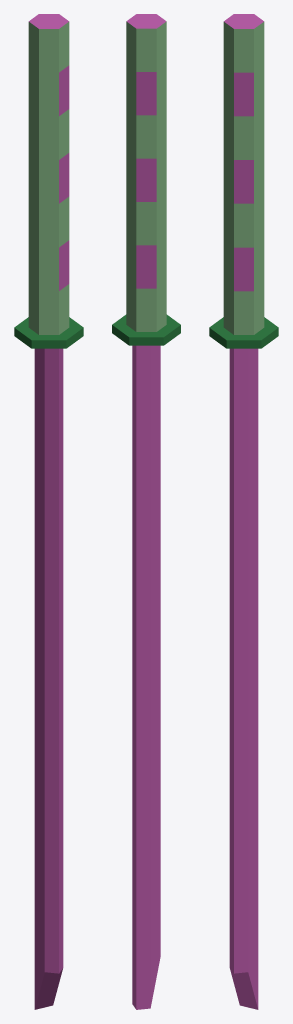
Rendered from Kamibokken.glb.
The picture shows the model from 3 angles, left to right: view 1: azimuth 30°, elevation 25°; view 2: azimuth 150°, elevation 25°; view 3: azimuth 330°, elevation 25°; orthographic projection.
Parts seen in each view (by area): view 1: Cylinder; view 2: Cylinder; view 3: Cylinder.
Boxes of the visible parts, x1,y1,x2,y2 form: Cylinder: [14, 14, 83, 1009]; Cylinder: [112, 14, 180, 1009]; Cylinder: [209, 14, 278, 1009].
Size of the model in its own units: 2.96 by 53.76 by 3.42.
